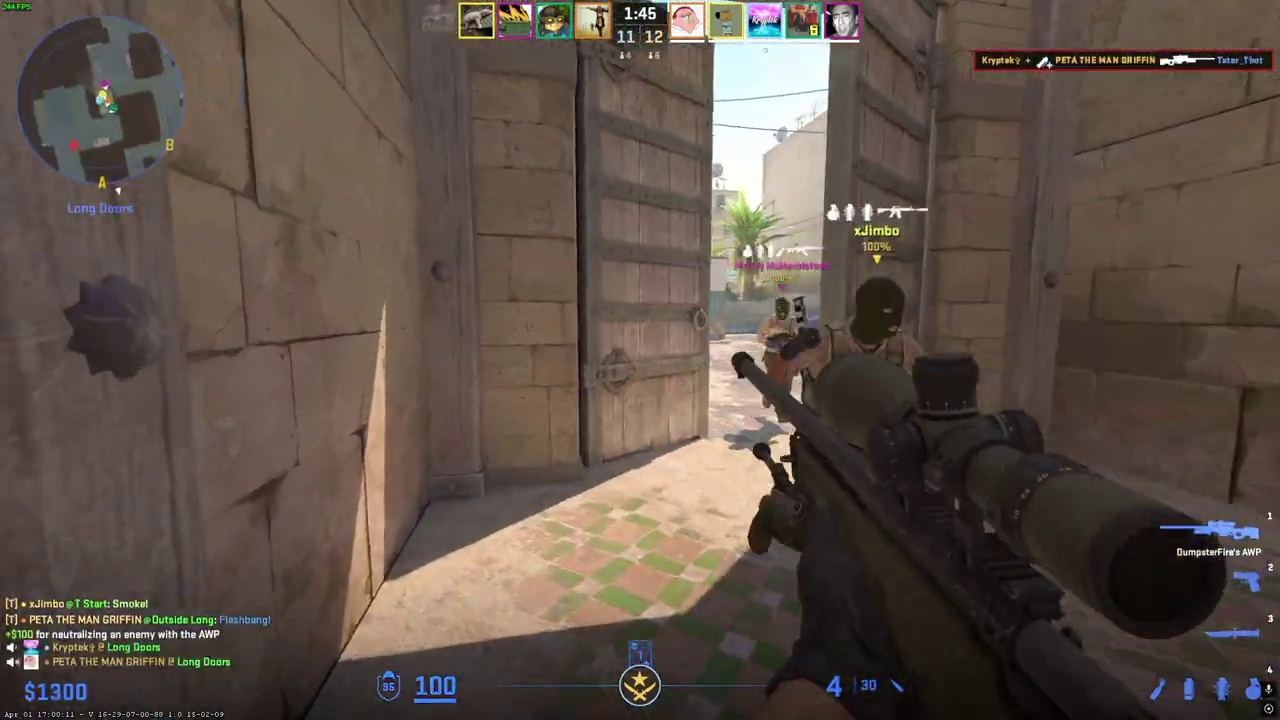Terrorist: (803, 277, 927, 390), (759, 297, 798, 408)
